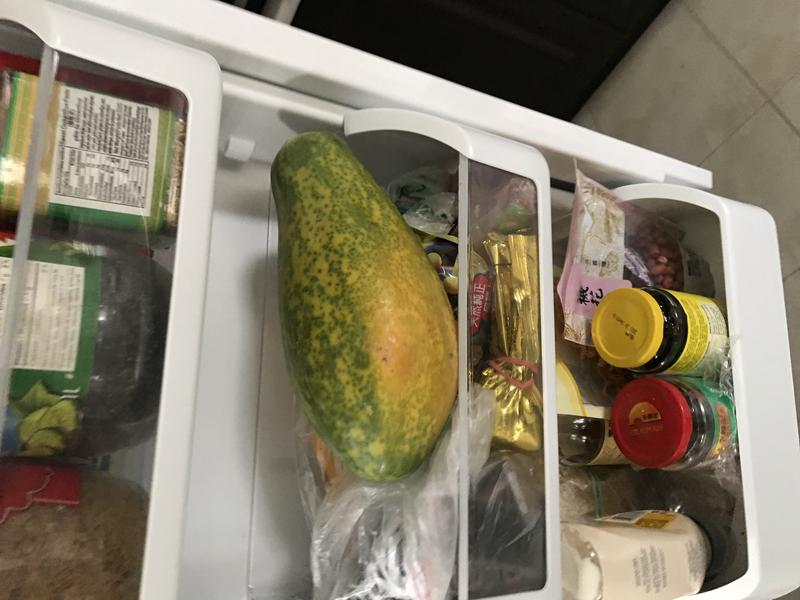papaya: (257, 127, 473, 494)
